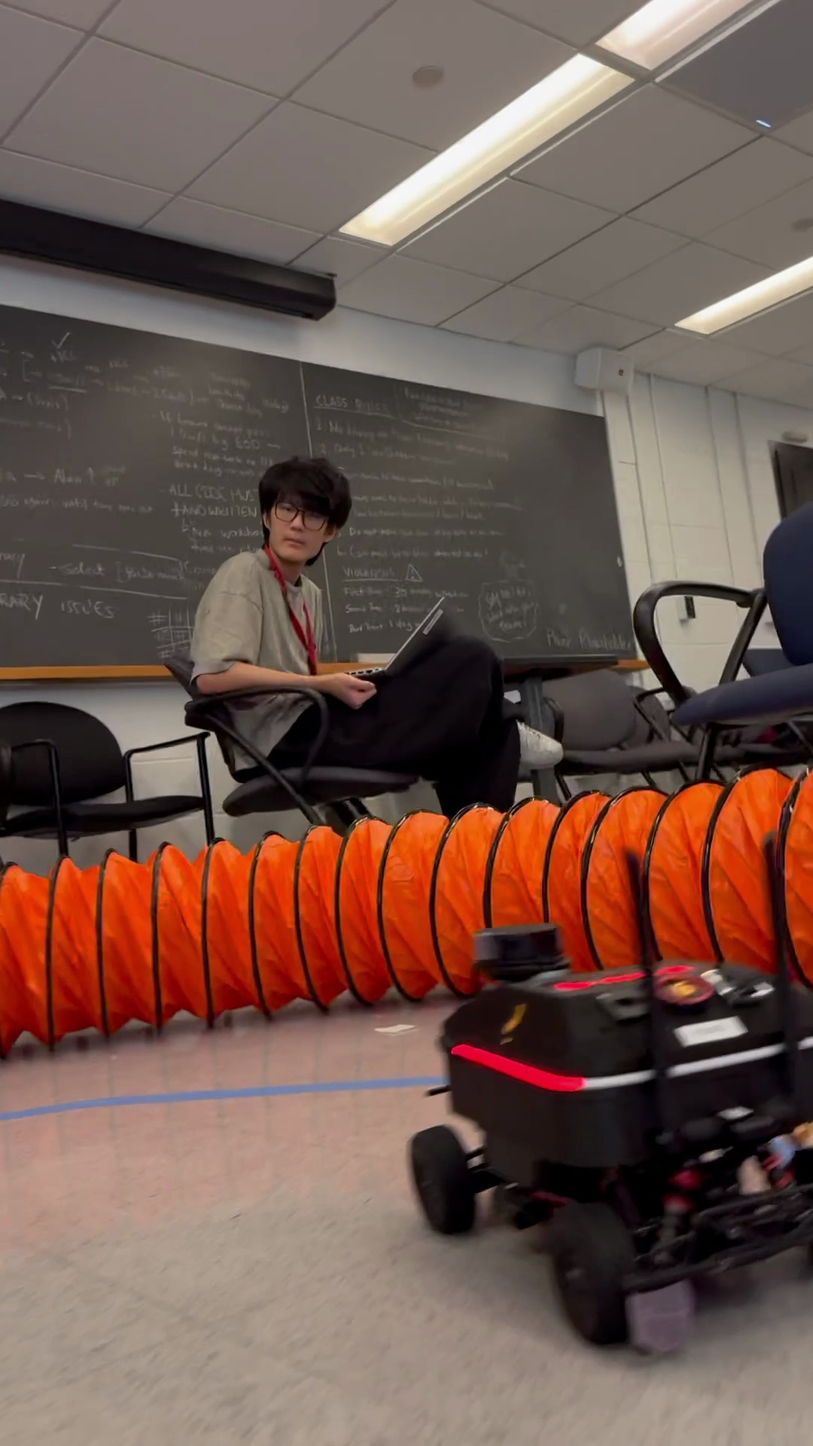racecar: (406, 841, 813, 1350)
